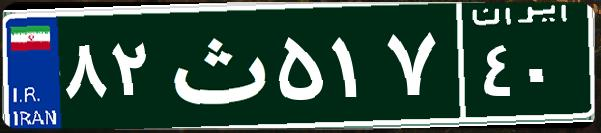0: (525, 38, 570, 115)
1: (330, 28, 385, 110)
2: (110, 28, 158, 105)
4: (475, 38, 525, 113)
5: (273, 28, 330, 110)
7: (385, 28, 445, 110)
8: (57, 26, 110, 107)
ث: (158, 15, 273, 115)
